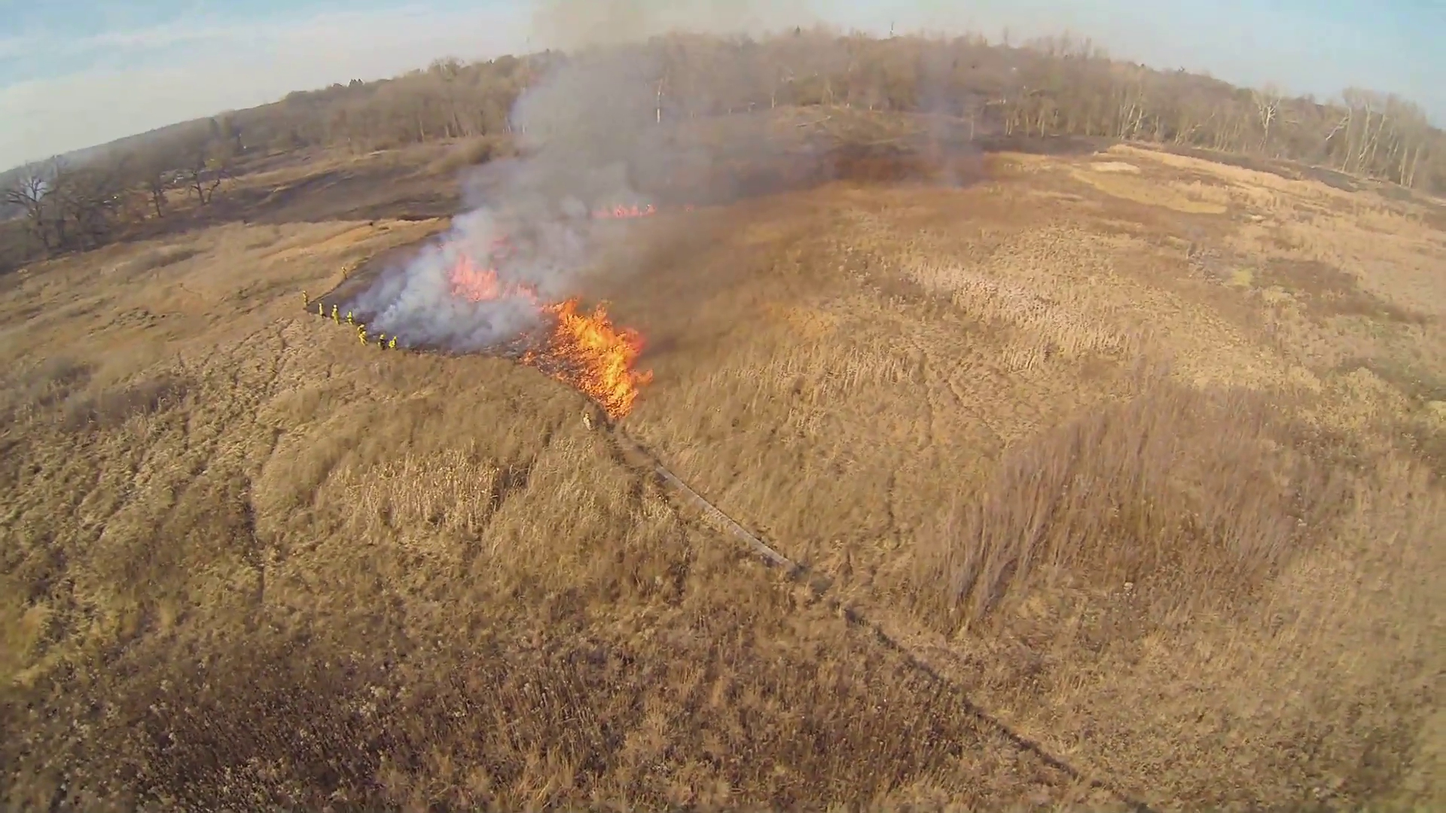forest_fire: (447, 237, 650, 418), (592, 204, 657, 219)
